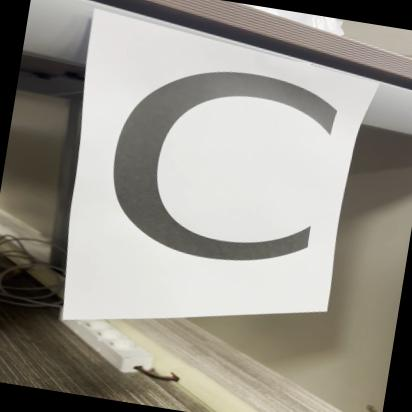seat: (56, 0, 374, 334)
